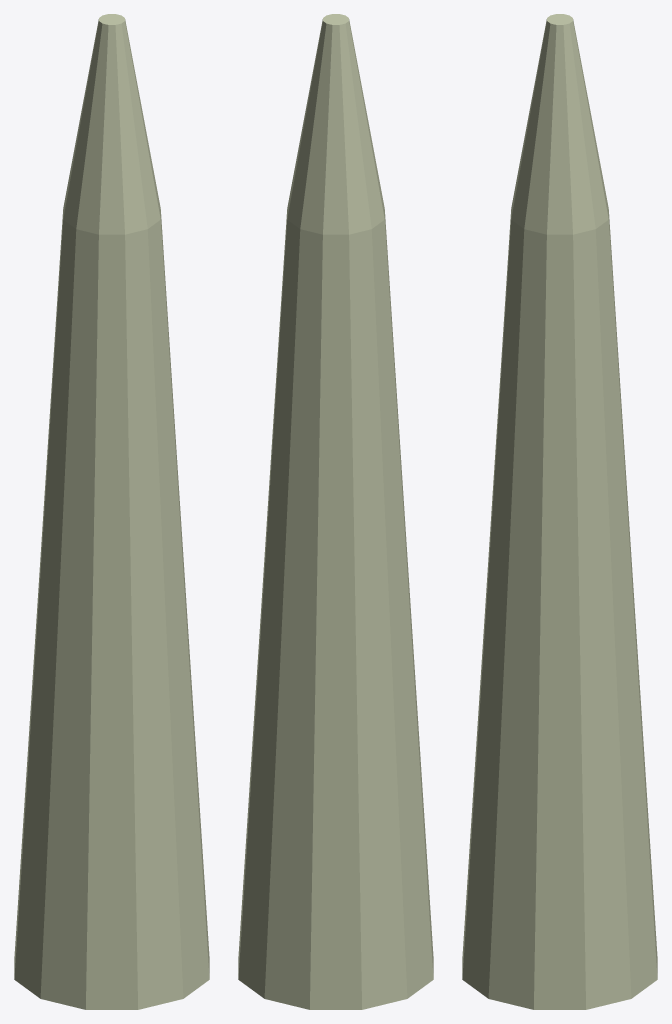
File: tantares_lv_booster_fuel_tank_s1p5_1_collider.obj
3 renders of one model, left to right at view 1: azimuth 30°, elevation 25°; view 2: azimuth 150°, elevation 25°; view 3: azimuth 270°, elevation 25°, orthographic.
Visible parts, largest first — view 1: tantares_lv_booster_fuel_tank_s1p5_1_collider; view 2: tantares_lv_booster_fuel_tank_s1p5_1_collider; view 3: tantares_lv_booster_fuel_tank_s1p5_1_collider.
Part boxes in pixels (x1,y1,x2,y2): tantares_lv_booster_fuel_tank_s1p5_1_collider: (14, 14, 209, 1009); tantares_lv_booster_fuel_tank_s1p5_1_collider: (238, 14, 433, 1009); tantares_lv_booster_fuel_tank_s1p5_1_collider: (462, 14, 657, 1009).
Bounding box in the file's own units: 1.88 × 10.06 × 1.88.
